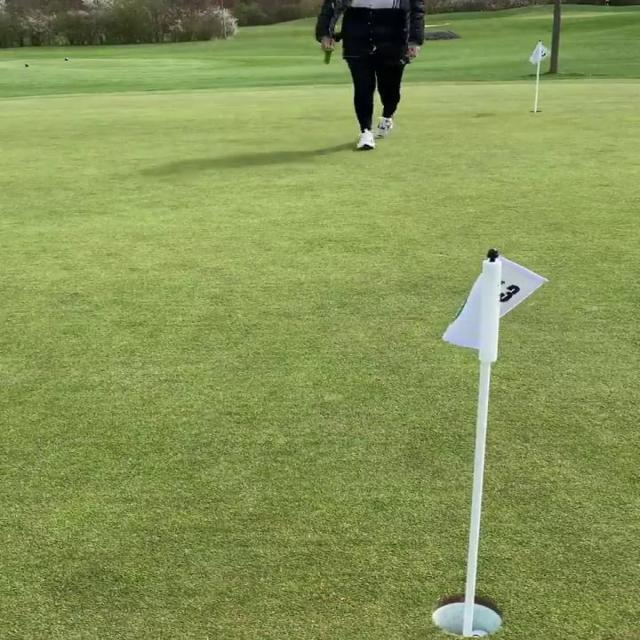golf club-handle: (324, 0, 349, 66)
